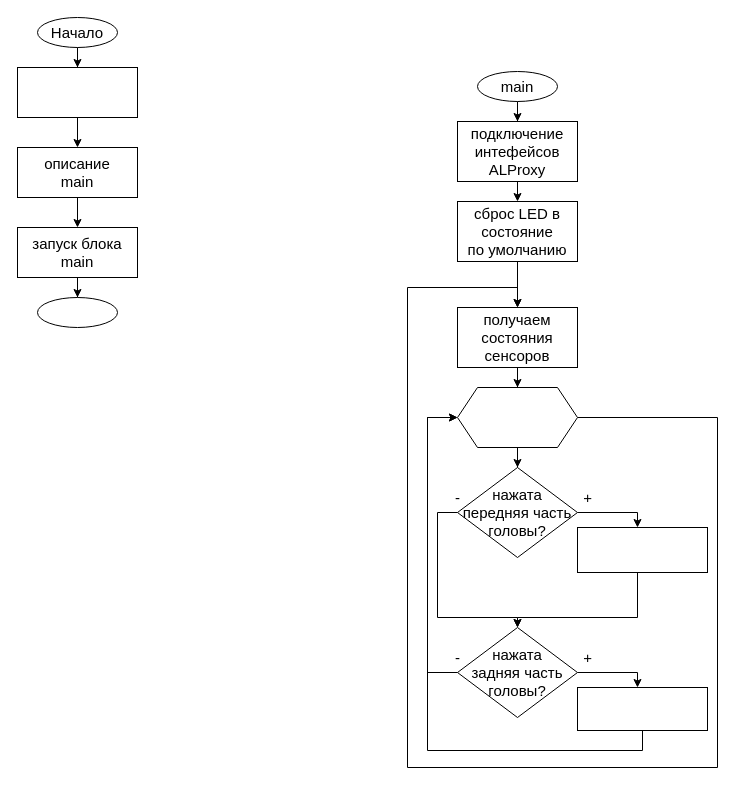
Image size: 743x793. Some labels were removed from this diagram. Each missing label, with the centre of its shape:
Конец: (x=77, y=312)
окрасить глаз в белый цвет: (x=642, y=708)
окрасить глаз в заданный цвет: (x=642, y=549)
перебираем полученные данные: (x=517, y=417)
подключение библиотек: (x=77, y=92)
